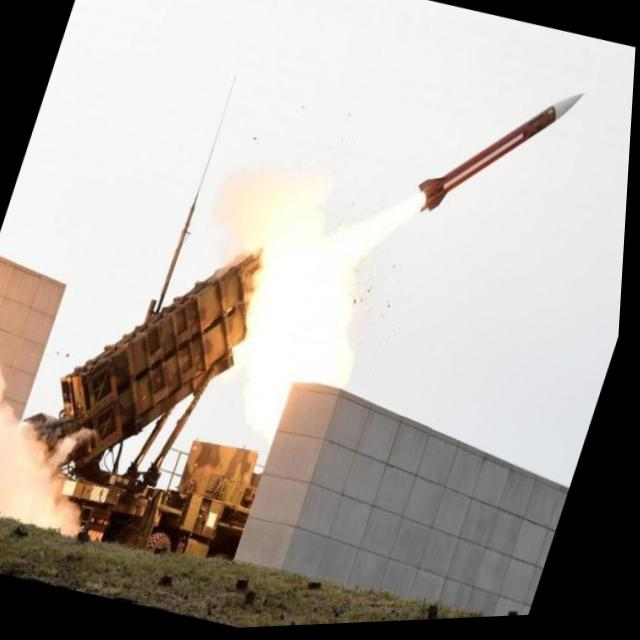missile: (411, 62, 591, 249)
